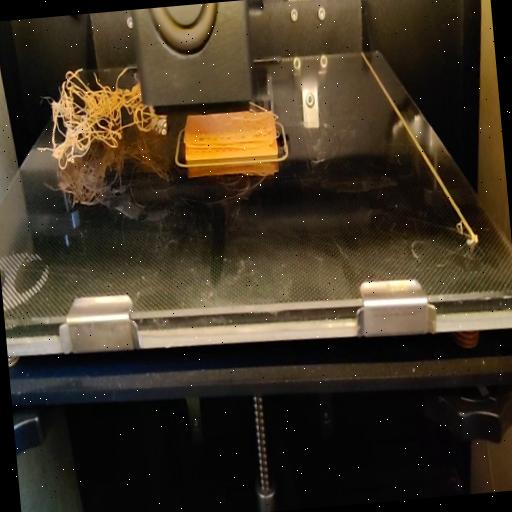spaghetti: (27, 55, 149, 174), (138, 106, 166, 134)
